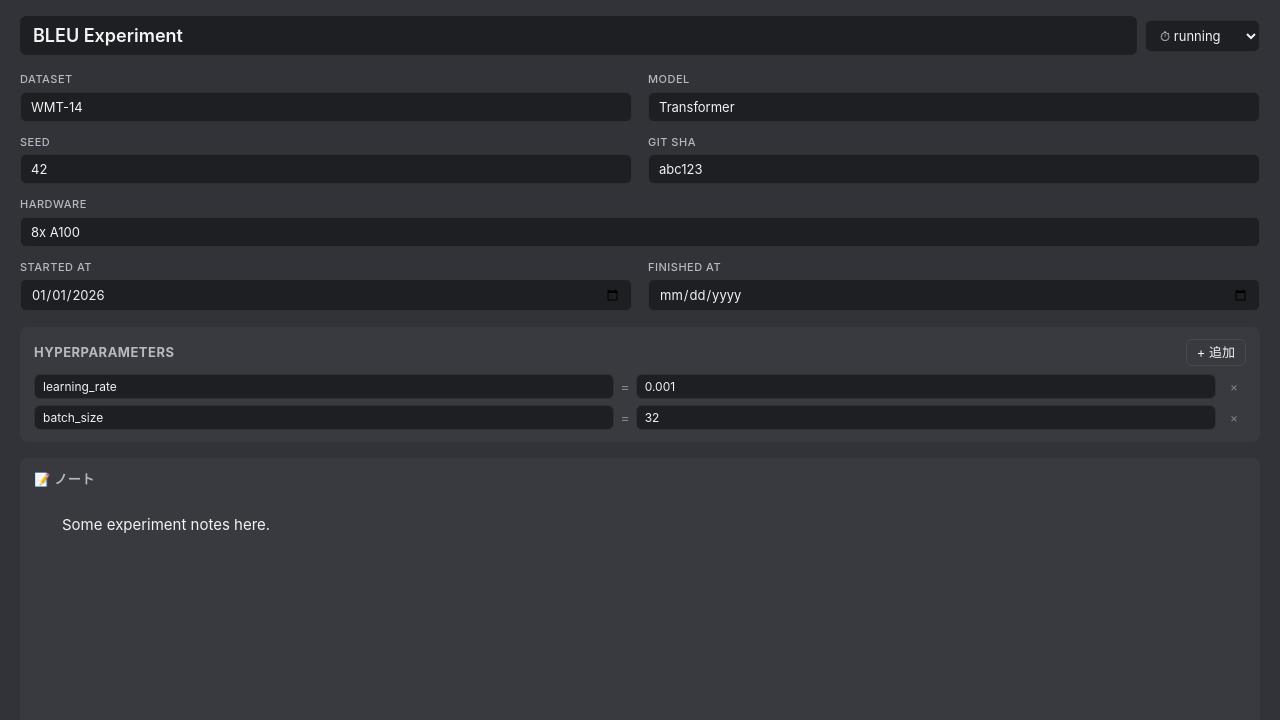
Test case: ExperimentEditor actions › removes a hyperparameter row
Expected: the heading "Hyperparameters" is shown, [34,343,174,362]
Click the button named "削除" at (1234, 386), box [1222,375,1246,398]
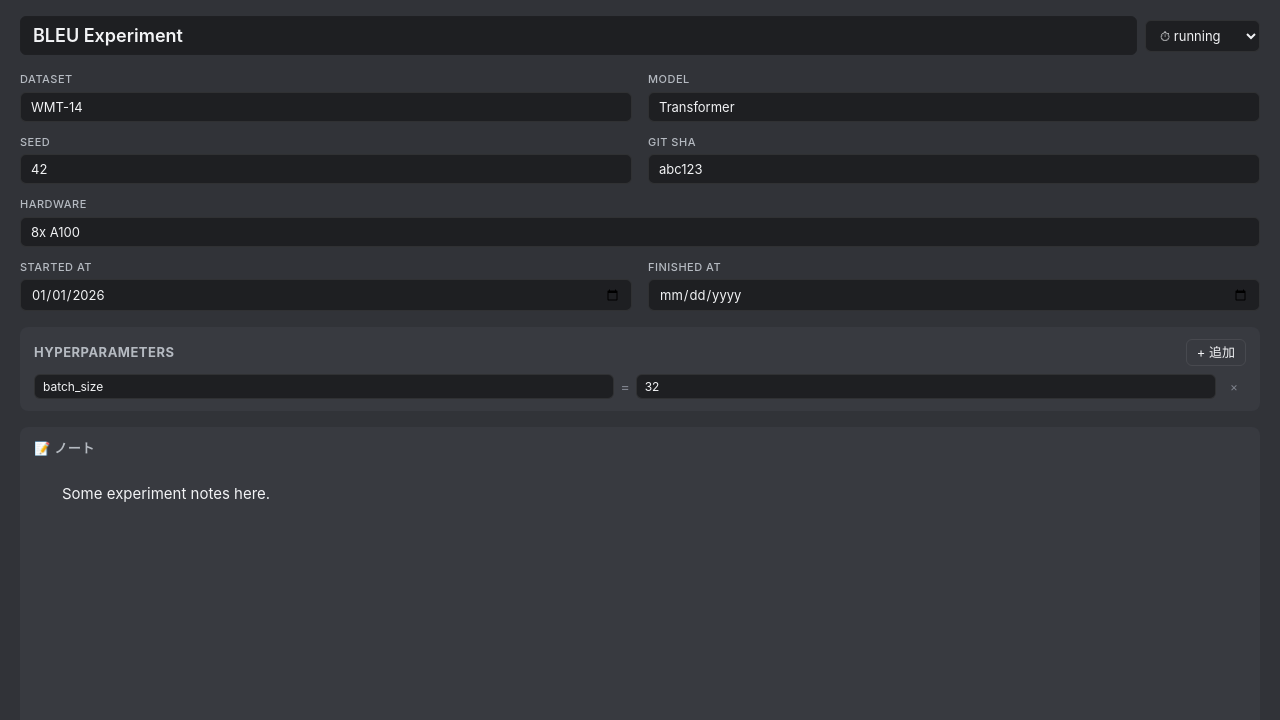
Expected: the number of buttons named "削除" is 1, [1222,375,1246,398]
